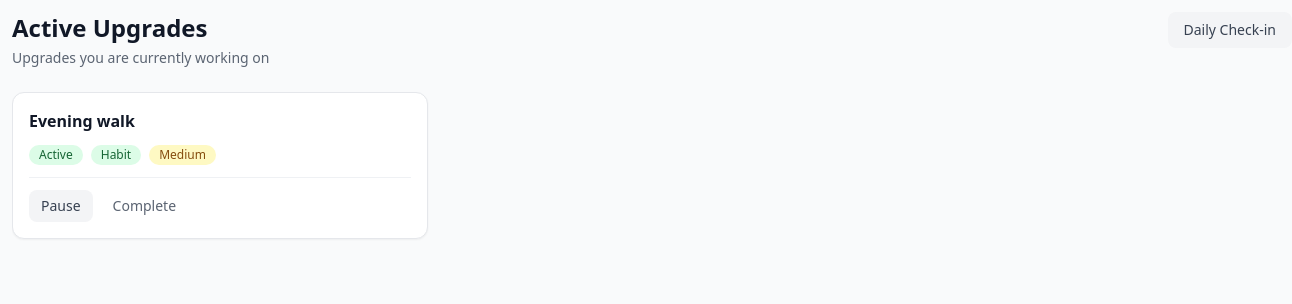
Test case: ActiveUpgradesPage, paused upgrades › GivenAnActiveUpgrade_WhenItIsPaused_ThenItIsListedUnderPausedWithResume
Click the button "Pause ": point(61, 206) [29,190,93,222]
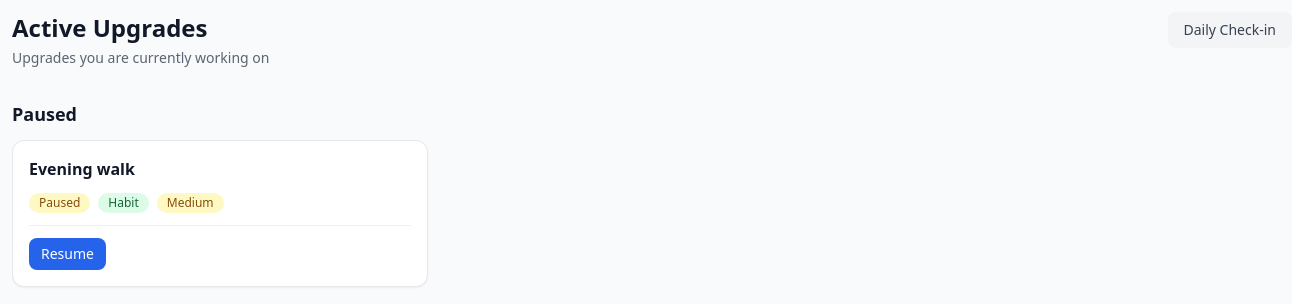
Check: the link "Evening walk" is shown, box [29,158,135,180]
Check: the button "Resume " is shown, box [29,238,106,270]
Check: the button "Pause " is gone
